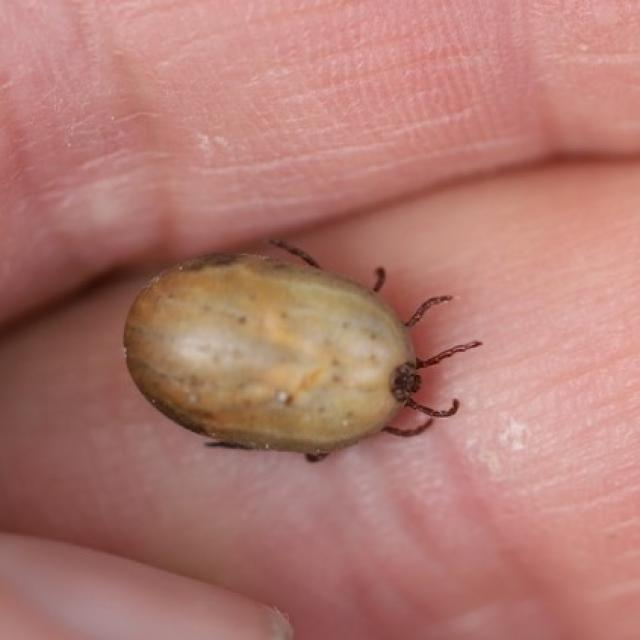Dermacentor Reticulatus-F-Fed: (123, 238, 484, 463)
